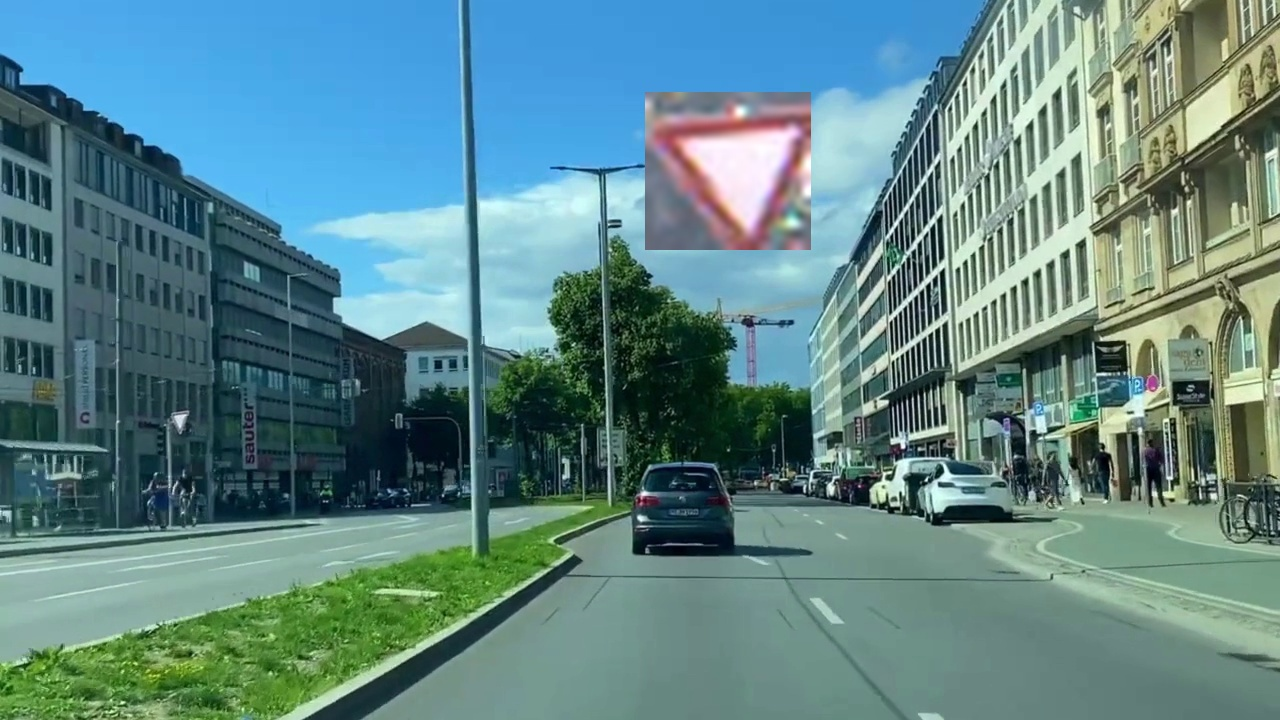Yield: (645, 92, 811, 250)
